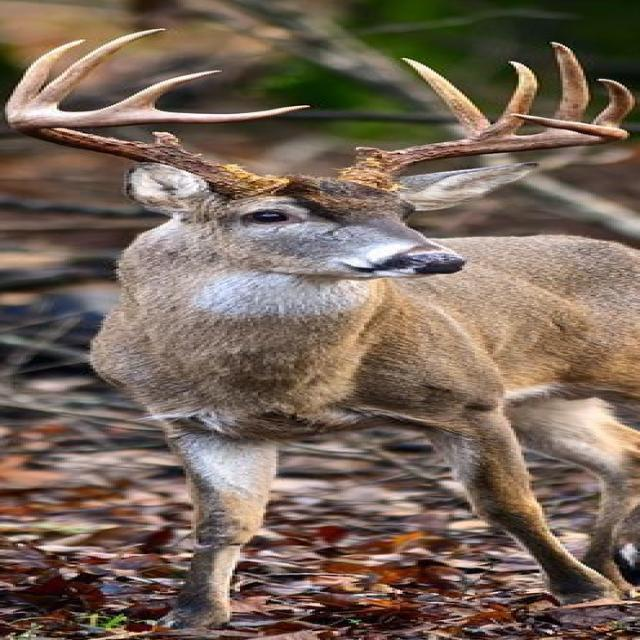L-F: (335, 113, 630, 193)
L-G1: (355, 146, 387, 163)
L-G2: (399, 57, 492, 138)
L-G3: (469, 60, 540, 140)
R-F: (7, 104, 313, 199)
R-G1: (151, 131, 184, 151)
R-G3: (21, 28, 169, 112)
R-G4: (104, 70, 222, 111)
